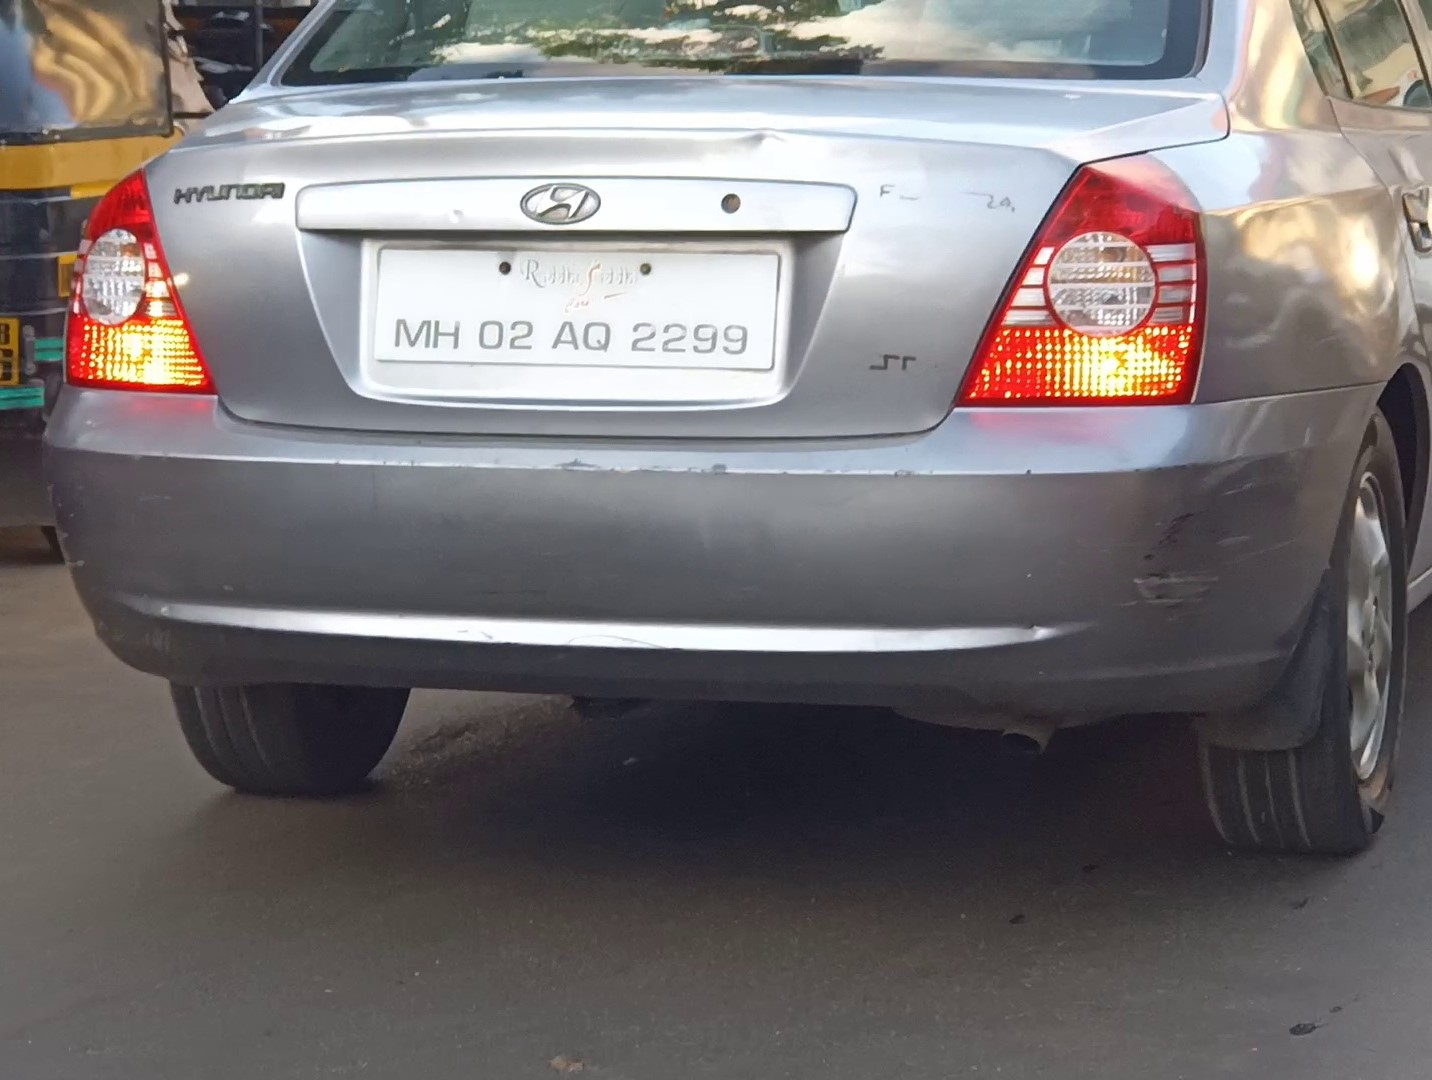MH02AQ2299: (370, 250, 778, 370)
